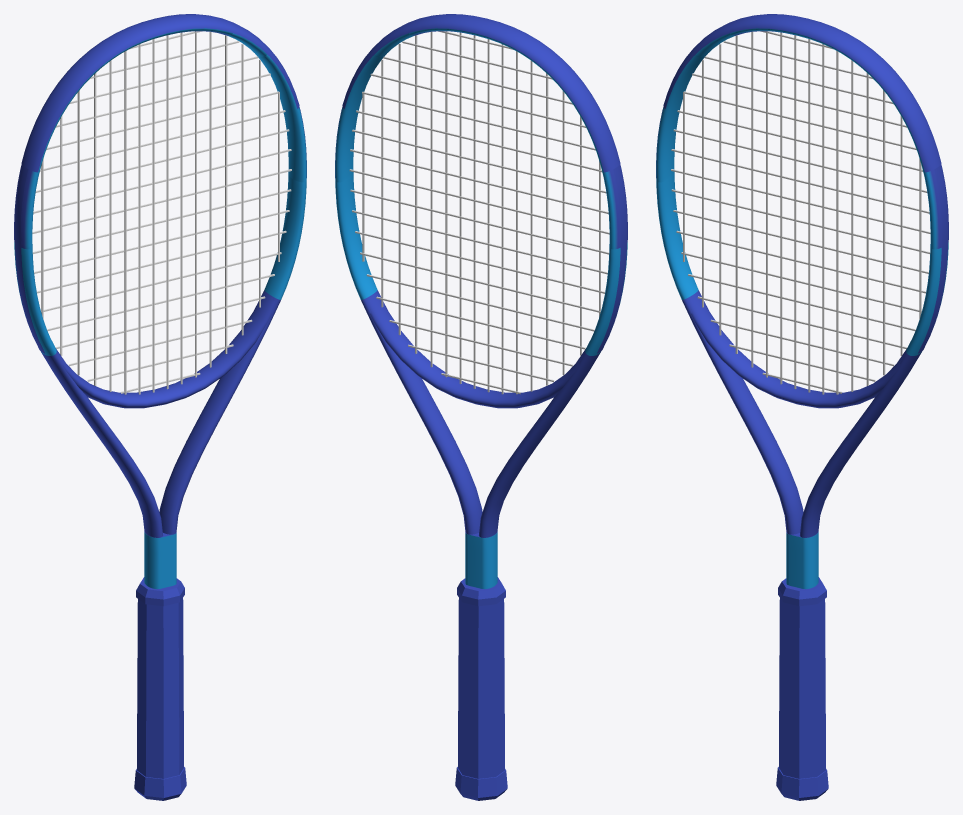
The model's file is prince-ripcord-98-xs.glb.
3 views of the same model, side by side, from view 1: azimuth 30°, elevation 25°; view 2: azimuth 150°, elevation 25°; view 3: azimuth 330°, elevation 25° (orthographic).
Parts seen in each view (by area): view 1: frame, strings_mains, strings_crosses, grip, bumper, grommets, butt_cap, collar; view 2: frame, strings_mains, strings_crosses, grip, bumper, grommets, butt_cap, collar; view 3: frame, strings_mains, strings_crosses, grip, bumper, grommets, butt_cap, collar.
Boxes of the visible parts, bbox=[...] form: frame: bbox=[14, 28, 306, 589]; strings_mains: bbox=[41, 31, 279, 394]; strings_crosses: bbox=[32, 31, 291, 393]; grip: bbox=[136, 598, 184, 778]; bumper: bbox=[21, 14, 299, 172]; grommets: bbox=[14, 165, 44, 353]; butt_cap: bbox=[134, 767, 186, 800]; collar: bbox=[136, 577, 184, 606]; frame: bbox=[335, 28, 627, 589]; strings_mains: bbox=[362, 31, 600, 394]; strings_crosses: bbox=[349, 31, 609, 394]; grip: bbox=[457, 598, 505, 778]; bumper: bbox=[342, 14, 620, 172]; grommets: bbox=[597, 165, 627, 353]; butt_cap: bbox=[455, 767, 507, 800]; collar: bbox=[457, 577, 505, 606]; frame: bbox=[656, 28, 948, 589]; strings_mains: bbox=[683, 31, 921, 394]; strings_crosses: bbox=[671, 31, 930, 393]; grip: bbox=[778, 598, 826, 778]; bumper: bbox=[663, 14, 941, 172]; grommets: bbox=[918, 165, 948, 353]; butt_cap: bbox=[776, 767, 828, 800]; collar: bbox=[778, 577, 826, 606].
Bounding box in the file's own units: 0.2672 × 0.6861 × 0.0396.
